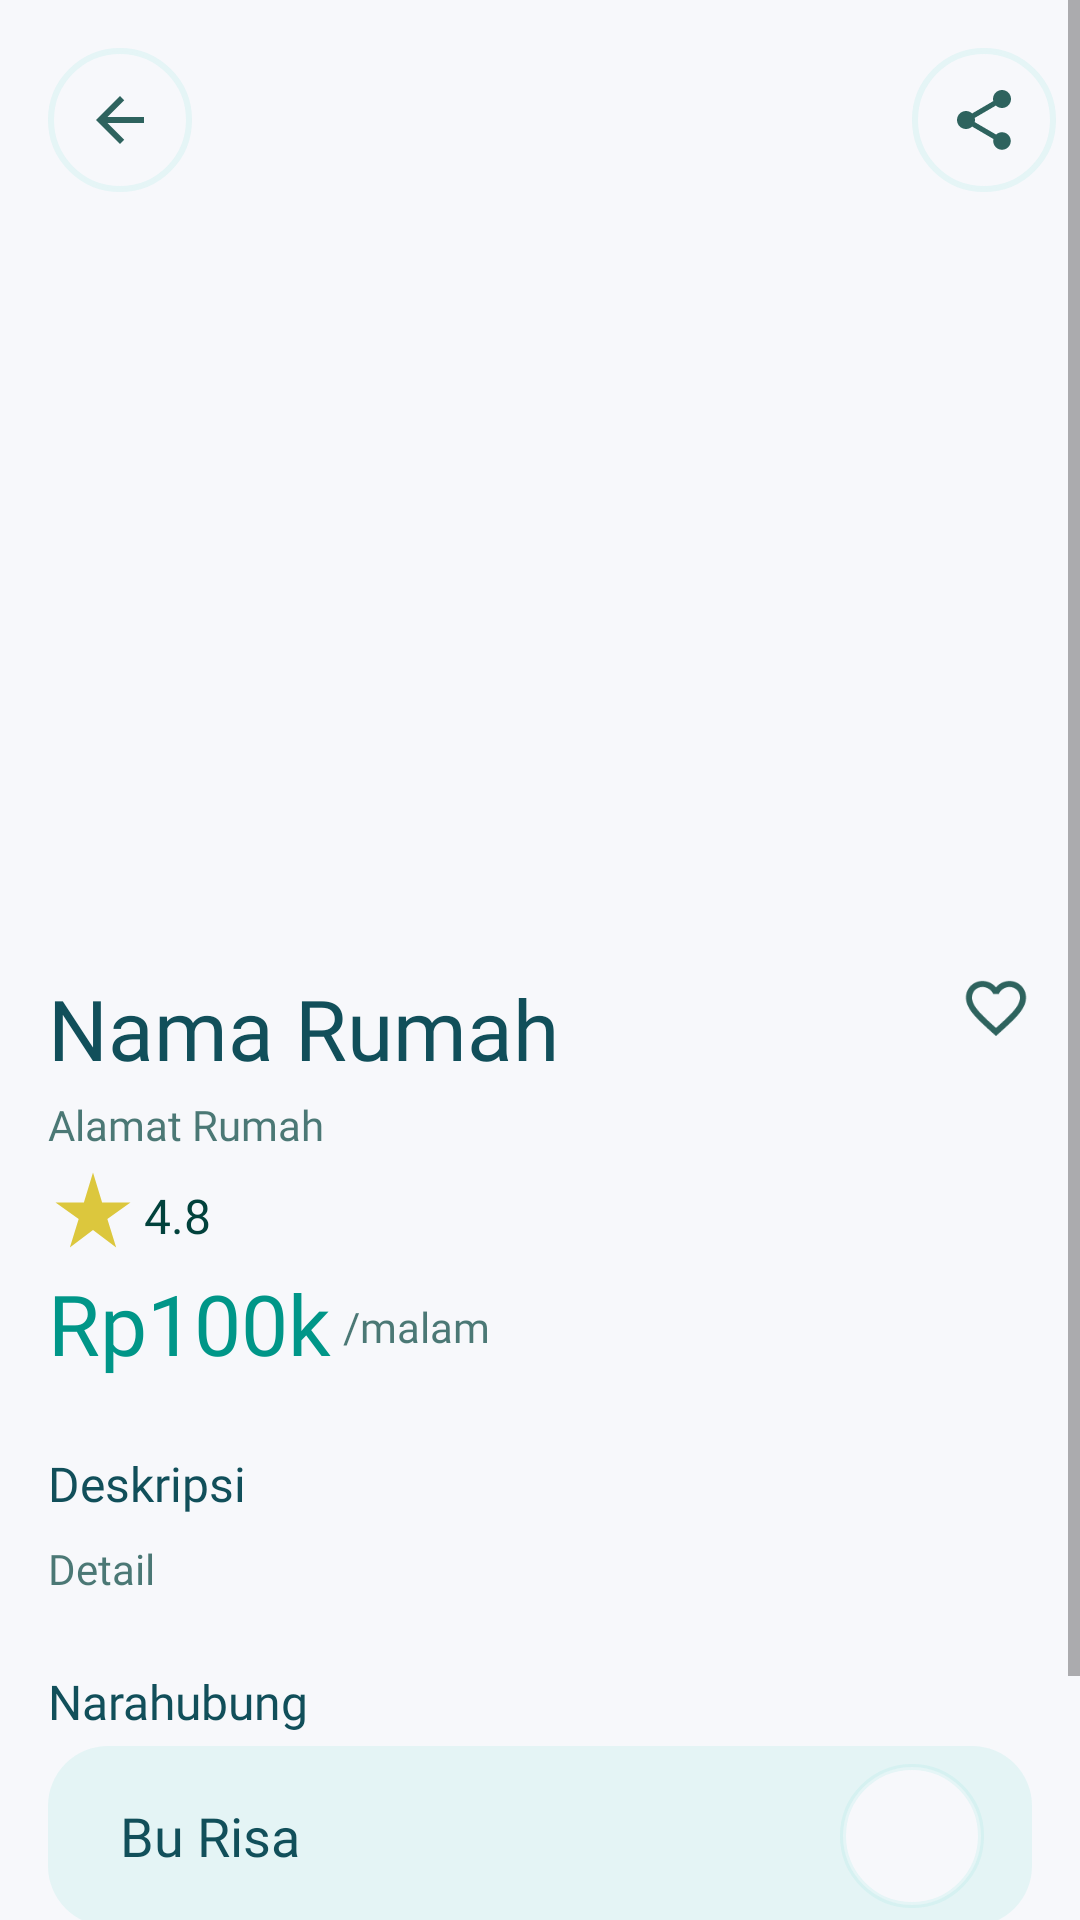

Icon bounding boxes for this 1080×1920 phone screenshot, format detection(x1, y1, x2, y2):
back: detection(96, 96, 144, 144)
share: detection(957, 90, 1011, 150)
star: detection(56, 1173, 130, 1247)
